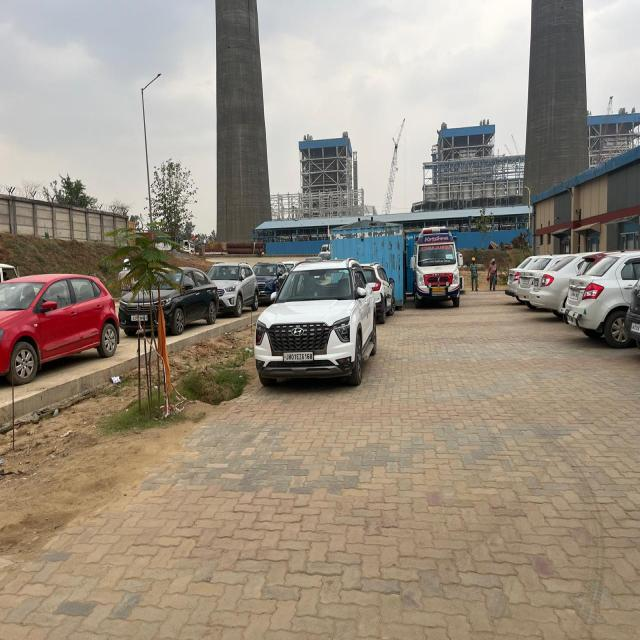car: (248, 255, 380, 414), (0, 266, 125, 387), (114, 255, 224, 338), (561, 248, 640, 344), (207, 261, 259, 319), (360, 260, 397, 327), (252, 260, 287, 302)
